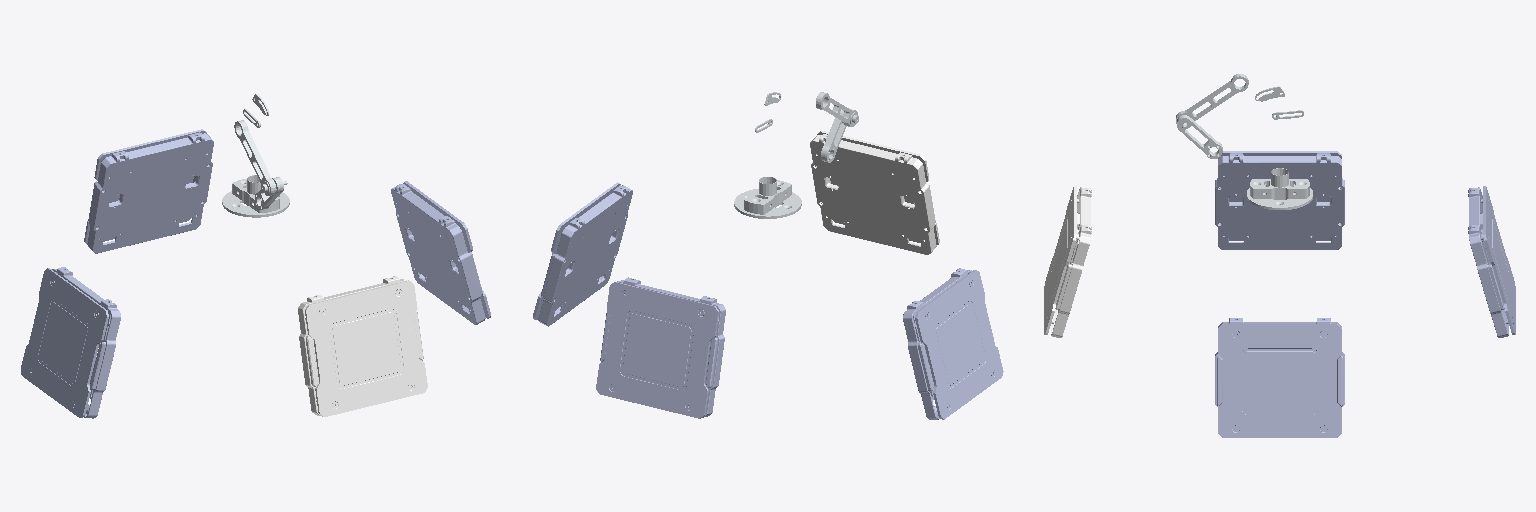
URDF robot description (sentry-urdf):
<?xml version='1.0' encoding='utf-8'?>
<robot name="sentry-urdf">
  <link name="base">
    <inertial>
      <origin xyz="0.0127292943415635 0.015513346499258 0.0653892864048969" rpy="0 0 0" />
      <mass value="8.28646893365413" />
      <inertia ixx="0.0122564574227048" ixy="5.06966976588293E-06" ixz="6.29473785568394E-06" iyy="0.017188549945823" iyz="-3.54427905850077E-06" izz="0.024852924029648" />
    </inertial>
    <visual>
      <origin xyz="0 0 0" rpy="0 0 0" />
      <geometry>
        <mesh filename="package://sentry_urdf_preview/meshes/base.STL" />
      </geometry>
      <material name="">
        <color rgba="0.898039215686275 0.917647058823529 0.929411764705882 1" />
      </material>
    </visual>
  </link>
  <link name="wheel-1">
    <inertial>
      <origin xyz="3.5472E-14 7.3553E-07 -1.3352E-06" rpy="0 0 0" />
      <mass value="0.46449" />
      <inertia ixx="0.00033786" ixy="-1.3553E-20" ixz="-5.8695E-21" iyy="0.00017443" iyz="3.516E-09" izz="0.00017443" />
    </inertial>
  </link>
  <joint name="wheel-1" type="revolute">
    <origin xyz="0.16209 0.16209 -0.0037427" rpy="0 0 0.7854" />
    <parent link="base" />
    <child link="wheel-1" />
    <axis xyz="-1 0 0" />
    <limit lower="0" upper="0" effort="0" velocity="0" />
  </joint>
  <link name="wheel-2">
    <inertial>
      <origin xyz="3.5166E-14 7.3553E-07 -1.3352E-06" rpy="0 0 0" />
      <mass value="0.46449" />
      <inertia ixx="0.00033786" ixy="-1.3553E-20" ixz="-6.5294E-21" iyy="0.00017443" iyz="3.516E-09" izz="0.00017443" />
    </inertial>
  </link>
  <joint name="wheel-2" type="revolute">
    <origin xyz="-0.16209 0.16209 -0.0037427" rpy="0 0 2.3562" />
    <parent link="base" />
    <child link="wheel-2" />
    <axis xyz="-1 0 0" />
    <limit lower="0" upper="0" effort="0" velocity="0" />
  </joint>
  <link name="wheel-3">
    <inertial>
      <origin xyz="3.5416E-14 7.3553E-07 -1.3352E-06" rpy="0 0 0" />
      <mass value="0.46449" />
      <inertia ixx="0.00033786" ixy="-2.0329E-20" ixz="-5.3085E-21" iyy="0.00017443" iyz="3.516E-09" izz="0.00017443" />
    </inertial>
  </link>
  <joint name="wheel-3" type="revolute">
    <origin xyz="-0.16209 -0.16209 -0.0037427" rpy="0 0 -2.3562" />
    <parent link="base" />
    <child link="wheel-3" />
    <axis xyz="-1 0 0" />
    <limit lower="0" upper="0" effort="0" velocity="0" />
  </joint>
  <link name="wheel-4">
    <inertial>
      <origin xyz="3.5555E-14 7.3553E-07 -1.3352E-06" rpy="0 0 0" />
      <mass value="0.46449" />
      <inertia ixx="0.00033786" ixy="0" ixz="-1.7961E-21" iyy="0.00017443" iyz="3.516E-09" izz="0.00017443" />
    </inertial>
  </link>
  <joint name="wheel-4" type="revolute">
    <origin xyz="0.16209 -0.16209 -0.0037427" rpy="0 0 -0.7854" />
    <parent link="base" />
    <child link="wheel-4" />
    <axis xyz="-1 0 0" />
    <limit lower="0" upper="0" effort="0" velocity="0" />
  </joint>
  <link name="yaw">
    <inertial>
      <origin xyz="0.0056886 -0.030474 0.12256" rpy="0 0 0" />
      <mass value="2.6592" />
      <inertia ixx="0.0032342" ixy="-4.0576E-06" ixz="-1.5882E-05" iyy="0.0018652" iyz="-5.3478E-05" izz="0.0024437" />
    </inertial>
    <visual>
      <origin xyz="0 0 0" rpy="0 0 0" />
      <geometry>
        <mesh filename="package://sentry_urdf_preview/meshes/yaw.STL" />
      </geometry>
      <material name="">
        <color rgba="0.89804 0.91765 0.92941 1" />
      </material>
    </visual>
  </link>
  <joint name="yaw" type="revolute">
    <origin xyz="0 0 0.1595" rpy="0 0 0" />
    <parent link="base" />
    <child link="yaw" />
    <axis xyz="0 0 -1" />
    <limit lower="0" upper="0" effort="0" velocity="0" />
  </joint>
  <link name="armor-1">
    <inertial>
      <origin xyz="-0.0083693 8.4227E-09 0.00081288" rpy="0 0 0" />
      <mass value="0.096294" />
      <inertia ixx="0.00027639" ixy="5.4094E-12" ixz="-2.6918E-07" iyy="0.00013222" iyz="4.6908E-10" izz="0.00014509" />
    </inertial>
    <visual>
      <origin xyz="0 0 0" rpy="0 0 0" />
      <geometry>
        <mesh filename="package://sentry_urdf_preview/meshes/armor-1.STL" />
      </geometry>
      <material name="">
        <color rgba="0.79216 0.81961 0.93333 1" />
      </material>
    </visual>
  </link>
  <joint name="armor-1" type="fixed">
    <origin xyz="0.23985 0 0.063281" rpy="0 -0.2618 0" />
    <parent link="base" />
    <child link="armor-1" />
    <axis xyz="0 0 0" />
  </joint>
  <link name="armor-2">
    <inertial>
      <origin xyz="-0.0083693 6.893E-09 0.00081288" rpy="0 0 0" />
      <mass value="0.096294" />
      <inertia ixx="0.00027639" ixy="5.0852E-12" ixz="-2.6918E-07" iyy="0.00013222" iyz="4.7415E-10" izz="0.00014509" />
    </inertial>
    <visual>
      <origin xyz="0 0 0" rpy="0 0 0" />
      <geometry>
        <mesh filename="package://sentry_urdf_preview/meshes/armor-2.STL" />
      </geometry>
      <material name="">
        <color rgba="0.79216 0.81961 0.93333 1" />
      </material>
    </visual>
  </link>
  <joint name="armor-2" type="fixed">
    <origin xyz="0 0.23985 0.097281" rpy="0 -0.2618 1.5708" />
    <parent link="base" />
    <child link="armor-2" />
    <axis xyz="0 0 0" />
  </joint>
  <link name="armor-3">
    <inertial>
      <origin xyz="-0.0083693 6.9313E-09 0.00081288" rpy="0 0 0" />
      <mass value="0.096294" />
      <inertia ixx="0.00027639" ixy="5.0706E-12" ixz="-2.6918E-07" iyy="0.00013222" iyz="4.7406E-10" izz="0.00014509" />
    </inertial>
    <visual>
      <origin xyz="0 0 0" rpy="0 0 0" />
      <geometry>
        <mesh filename="package://sentry_urdf_preview/meshes/armor-3.STL" />
      </geometry>
      <material name="">
        <color rgba="0.79216 0.81961 0.93333 1" />
      </material>
    </visual>
  </link>
  <joint name="armor-3" type="fixed">
    <origin xyz="-0.23985 0 0.063281" rpy="0 -0.2618 3.1416" />
    <parent link="base" />
    <child link="armor-3" />
    <axis xyz="0 0 0" />
  </joint>
  <link name="armor-4">
    <inertial>
      <origin xyz="0 0 0" rpy="0 0 0" />
      <mass value="0" />
      <inertia ixx="0" ixy="0" ixz="0" iyy="0" iyz="0" izz="0" />
    </inertial>
    <visual>
      <origin xyz="0 0 0" rpy="0 0 0" />
      <geometry>
        <mesh filename="package://sentry_urdf_preview/meshes/armor-4.STL" />
      </geometry>
      <material name="">
        <color rgba="1 1 1 1" />
      </material>
    </visual>
  </link>
  <joint name="armor-4" type="fixed">
    <origin xyz="0 -0.23985 0.097281" rpy="0 -0.2618 -1.5708" />
    <parent link="base" />
    <child link="armor-4" />
    <axis xyz="0 0 0" />
  </joint>
  <!-- Visual inspection model: it intentionally has no collision or dynamics. -->
  <gazebo>
    <static>true</static>
  </gazebo>
</robot>

--- What the picture shows (computed from the rendered views, not written in the file) ---
Views: 3 orthographic renders of the robot side by side, from view 1: azimuth 30°, elevation 25°; view 2: azimuth 150°, elevation 25°; view 3: azimuth 270°, elevation 25°.
Robot: sentry-urdf — 10 links, 9 joints (5 revolute, 4 fixed); root link base; default pose: all joints at 0.
Visible links, largest first — view 1: armor-4, armor-2, armor-3, armor-1, yaw; view 2: armor-2, armor-4, armor-3, armor-1, yaw; view 3: armor-1, armor-3, armor-2, armor-4, yaw.
Link boxes in pixels (x1,y1,x2,y2): armor-4: (298, 276, 427, 416); armor-2: (84, 129, 213, 253); armor-3: (21, 267, 120, 418); armor-1: (391, 181, 490, 324); yaw: (222, 94, 289, 217); armor-2: (596, 277, 725, 418); armor-4: (810, 131, 939, 254); armor-3: (903, 268, 1003, 419); armor-1: (533, 182, 632, 326); yaw: (734, 92, 858, 218); armor-1: (1215, 318, 1344, 437); armor-3: (1215, 151, 1344, 249); armor-2: (1468, 186, 1515, 337); armor-4: (1044, 186, 1091, 337); yaw: (1176, 74, 1312, 209).
Size in the robot's own frame: 0.5121 by 0.5121 by 0.3071 metres.
Meshes: 6 distinct files referenced, 5 mesh visuals loaded (5 binary STL); not drawn: 1 (reference not matched to a file when rendering).
